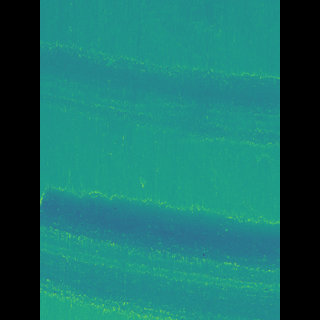Loch: (69, 185, 249, 320), (70, 37, 249, 149)
